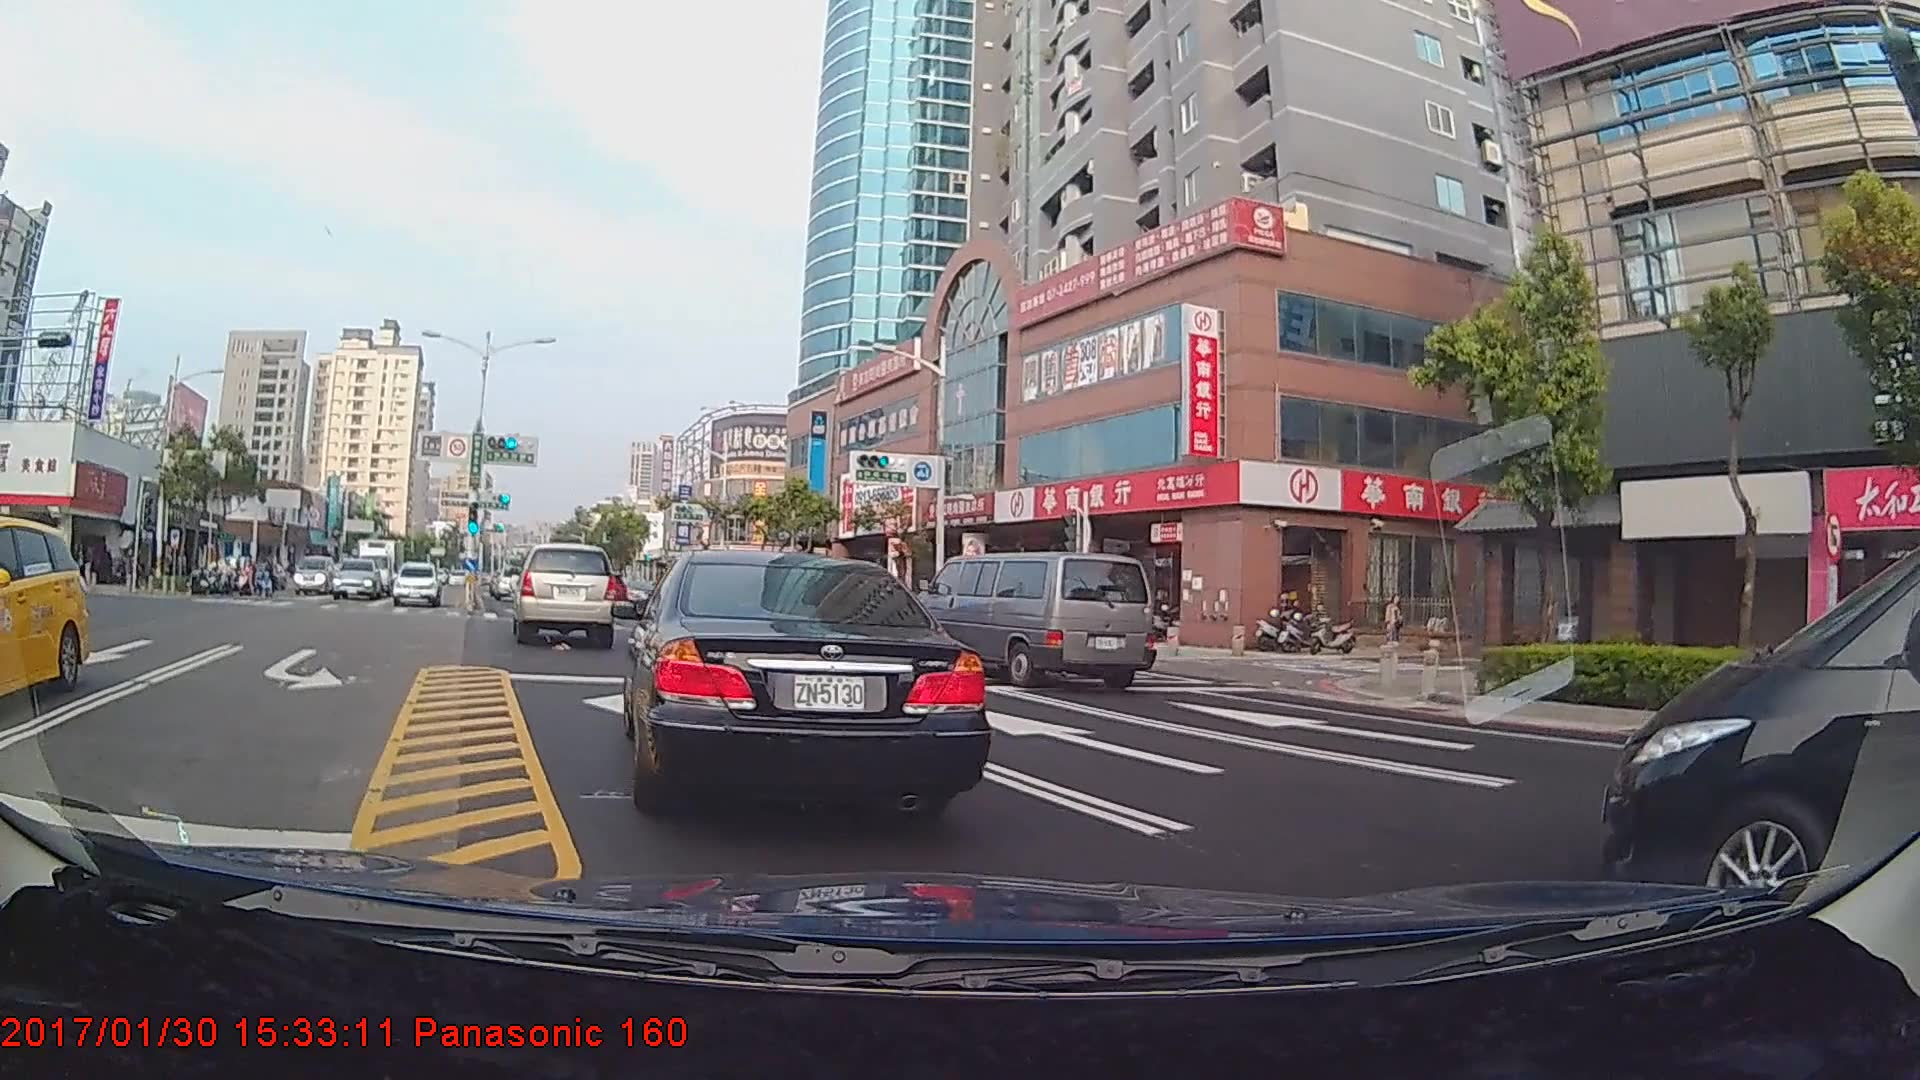pedestrian: (1378, 595, 1406, 659)
vehicle: (1590, 496, 1912, 896), (625, 541, 979, 815), (913, 551, 1153, 690), (0, 512, 88, 711), (513, 543, 618, 644), (348, 534, 403, 593), (393, 560, 443, 608), (332, 557, 384, 601), (293, 554, 333, 592), (488, 564, 526, 600)
